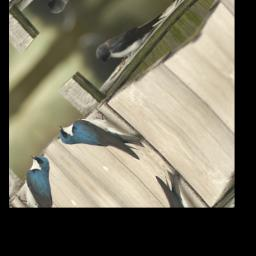Swallow: (53, 90, 150, 191)
